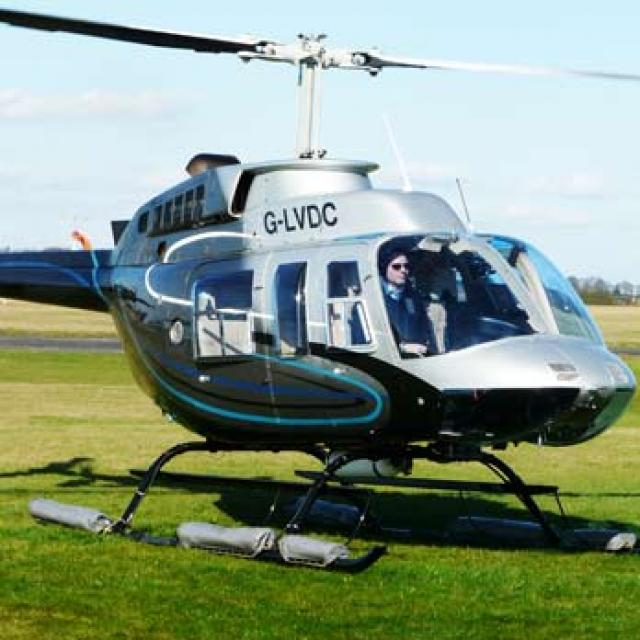helicopter: (32, 12, 628, 584)
